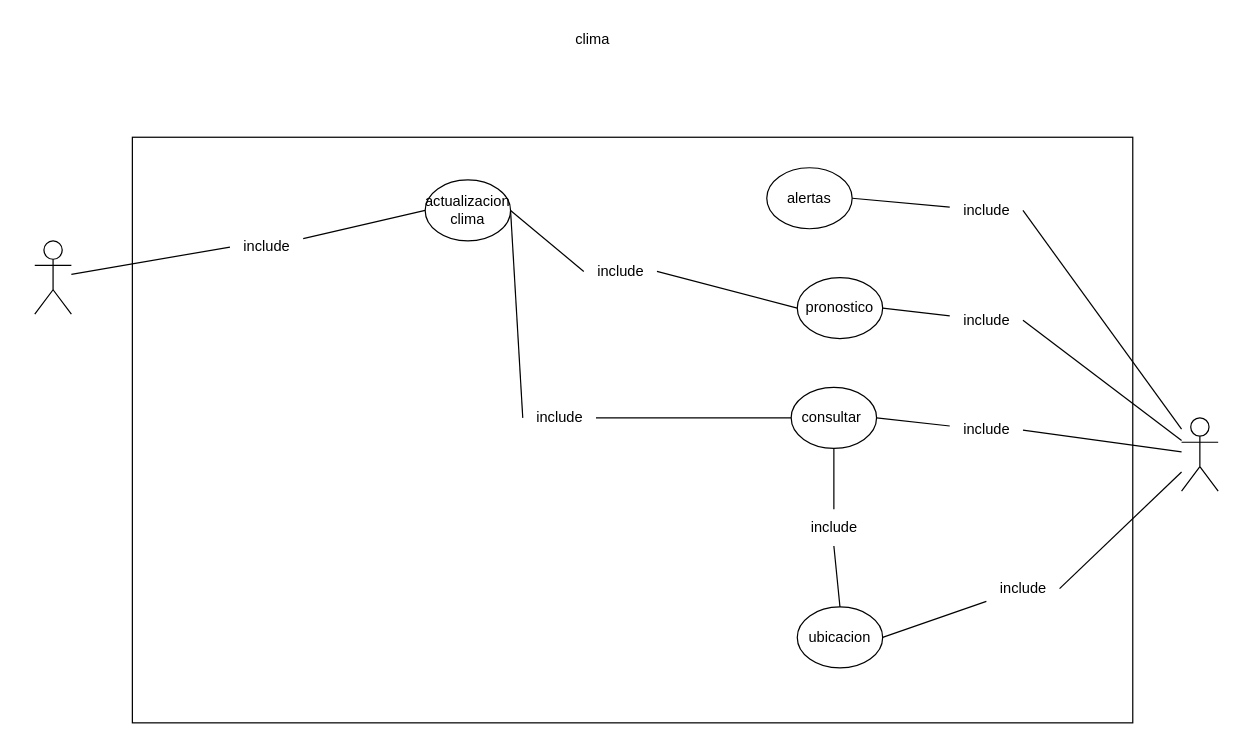
This 1244x744 diagram has some shape labels left out. The box of each missing label's shape, as (x1, y1, x2, y2) in pixels:
empleado: (34, 240, 71, 314)
usuario: (1180, 417, 1218, 491)
